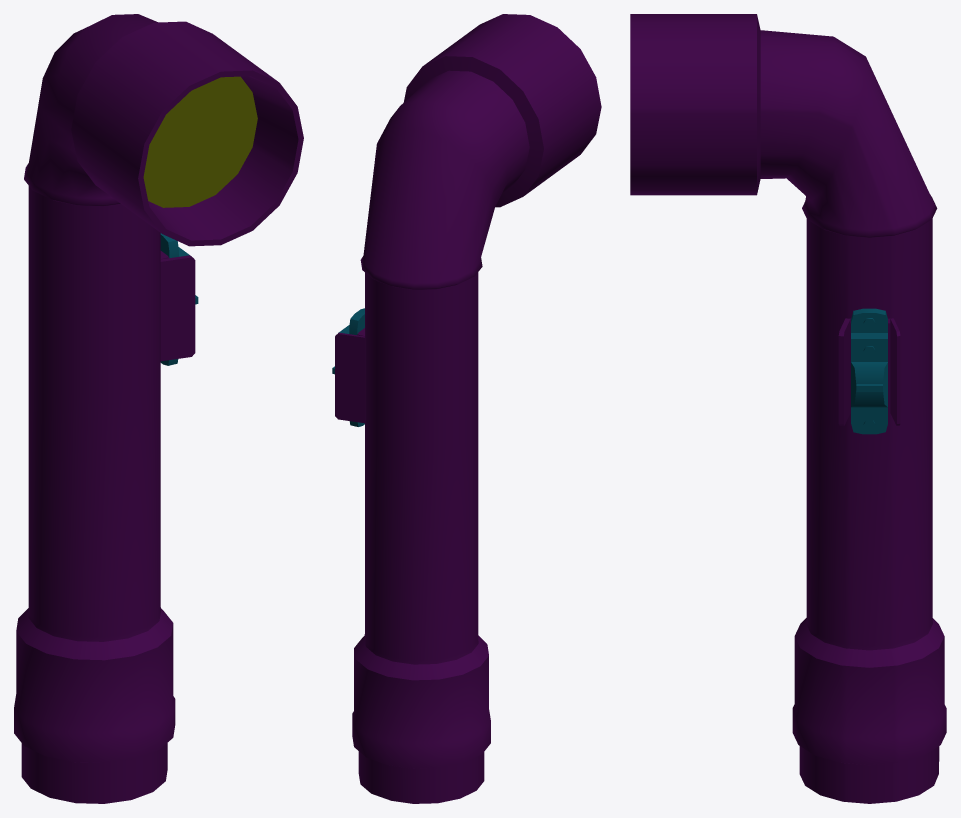
The model's file is Lampe_Eteinte.fbx.
3 renders of one model, left to right at view 1: azimuth 30°, elevation 25°; view 2: azimuth 150°, elevation 25°; view 3: azimuth 270°, elevation 25°, orthographic. The views are drawn at different scales.
Visible parts, largest first — view 1: Lampe; view 2: Lampe; view 3: Lampe.
Boxes of the visible parts, x1,y1,x2,y2 form: Lampe: [14, 14, 303, 803]; Lampe: [332, 14, 601, 803]; Lampe: [630, 14, 946, 803].
Size of the model in its own units: 4.9 by 20.68 by 7.88.
